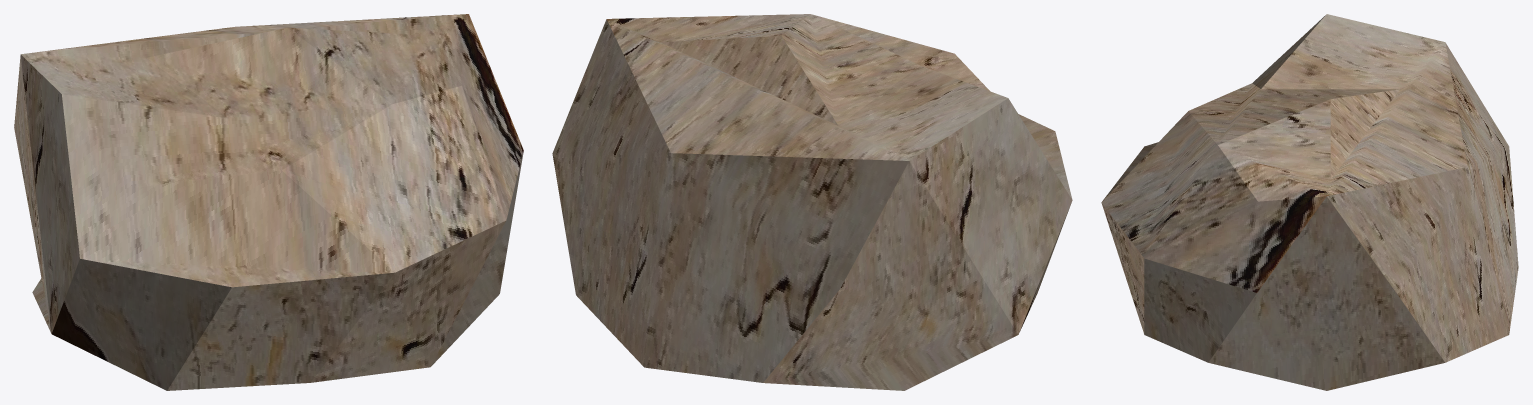
The model's file is roccia_1.glb.
The picture shows the model from 3 angles, left to right: view 1: azimuth 30°, elevation 25°; view 2: azimuth 150°, elevation 25°; view 3: azimuth 270°, elevation 25°; orthographic projection. The views are drawn at different scales.
Parts seen in each view (by area): view 1: Icosphere; view 2: Icosphere; view 3: Icosphere.
Part boxes in pixels (x1,y1,x2,y2): Icosphere: (14,14,523,390); Icosphere: (552,14,1072,390); Icosphere: (1101,14,1518,390).
Size of the model in its own units: 2.55 by 1.46 by 2.48.
1 material, 1 textured.
